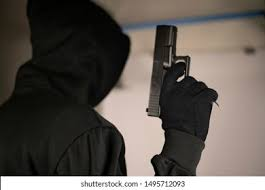gun: (145, 22, 217, 128)
